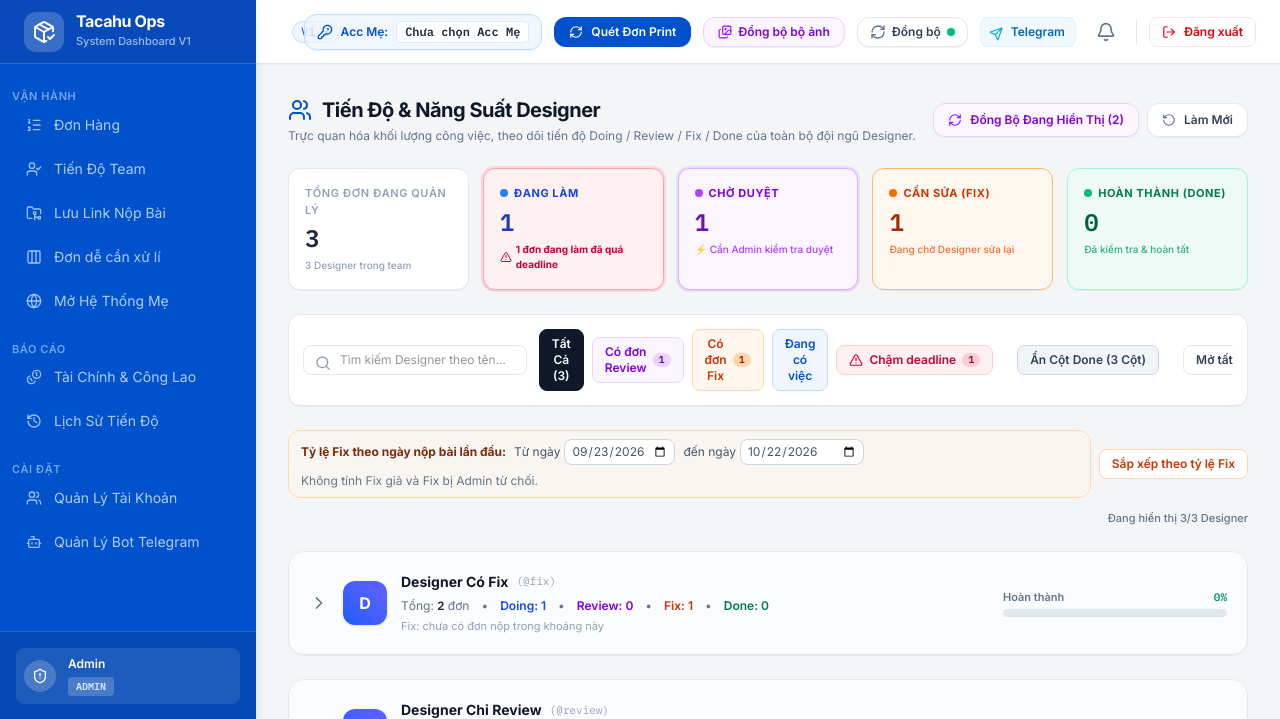
Scenario: DesignerBoardPage › shows only Designers with Doing orders when filtering currently working
Check: the heading "Designer Có Fix" is shown, box [401, 572, 508, 592]
Step 1. Click the button "Đang có việc" → coordinates (800, 360), box [772, 329, 828, 391]
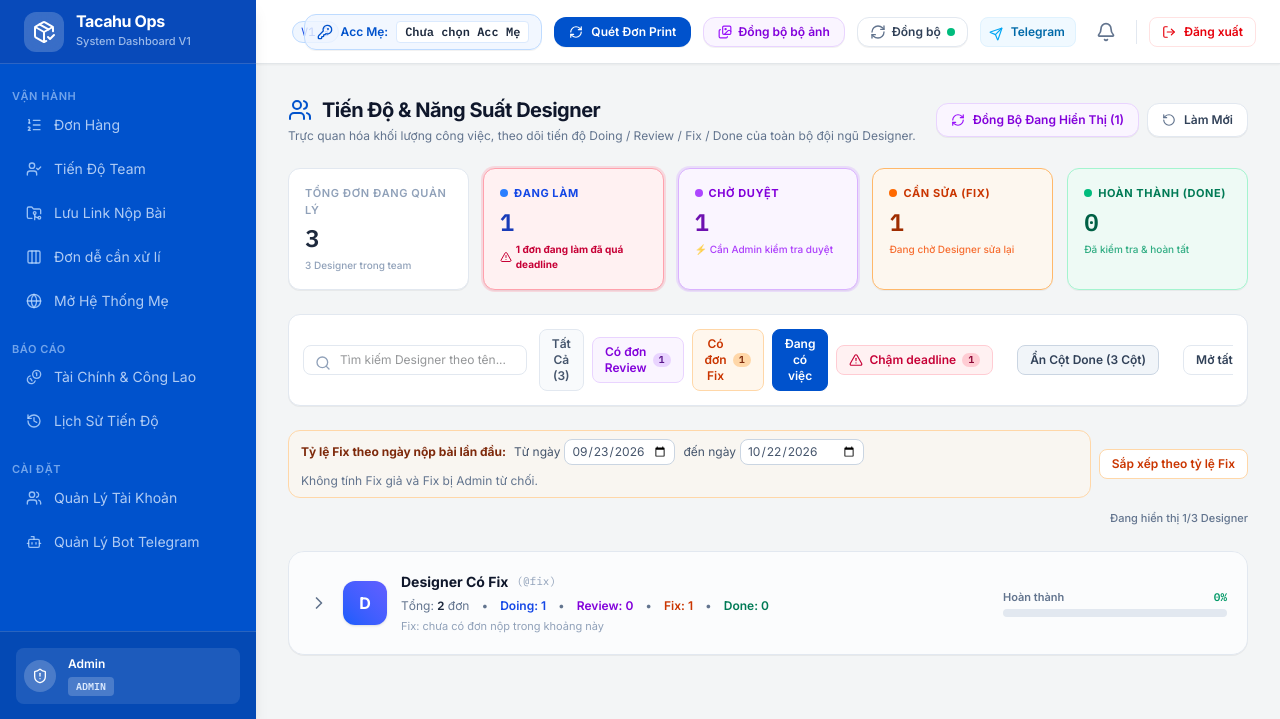
Check: the heading "Designer Có Fix" is shown, box [401, 572, 508, 592]
Check: the button "Designer Chỉ Review" is gone
